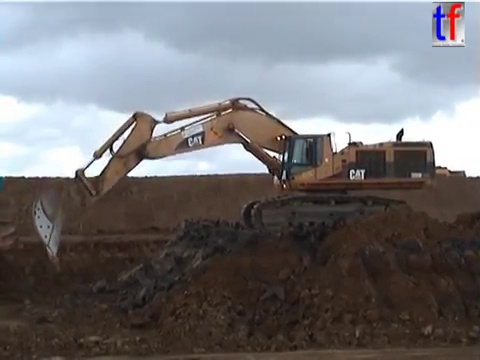excavator: (29, 94, 438, 274)
truck: (402, 164, 467, 189), (1, 219, 19, 287)
